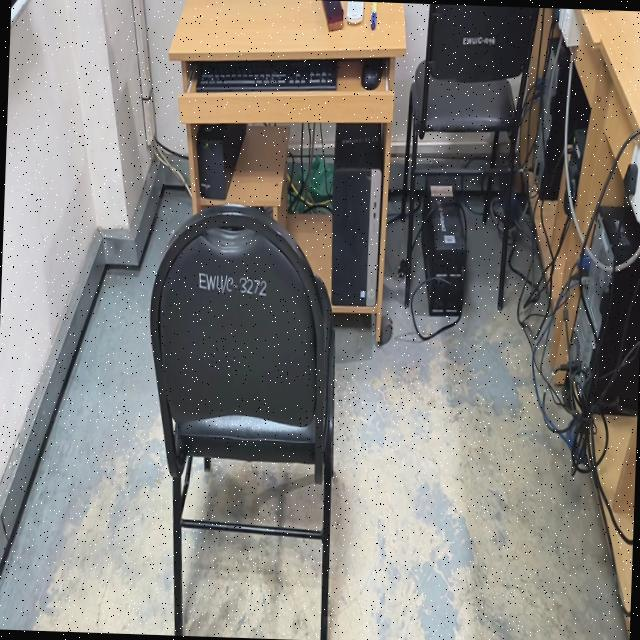Chair: (149, 204, 334, 640), (412, 4, 539, 167)
Cpu: (569, 206, 640, 392), (331, 123, 386, 313), (534, 38, 570, 198), (608, 349, 639, 405), (568, 72, 589, 142)
Keyboard: (197, 60, 337, 92)
Mouse: (360, 59, 383, 89)
